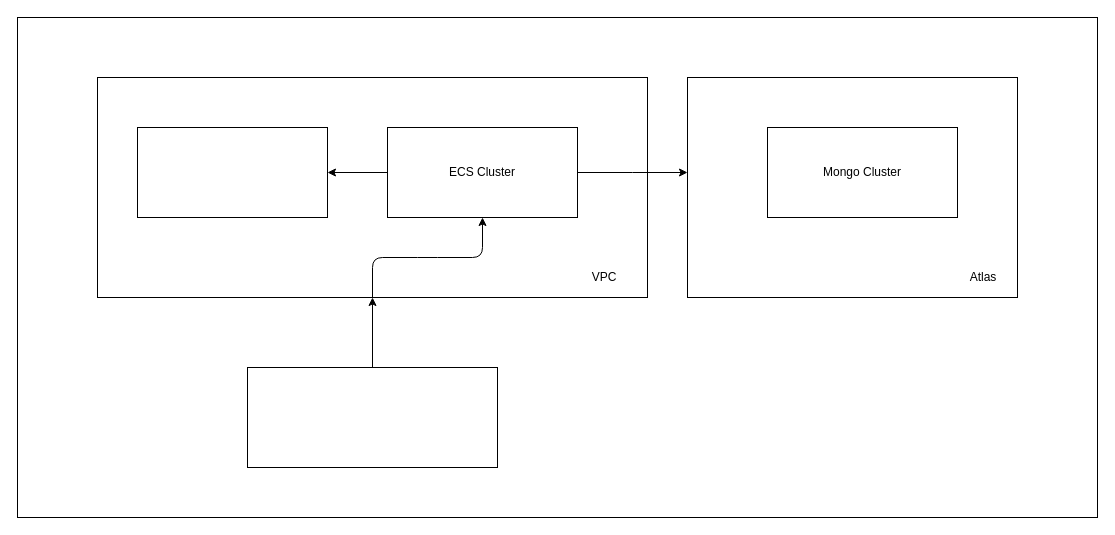
This 1115x535 diagram has some shape labels left out. The box of each missing label's shape, as (x1, y1, x2, y2) in pixels:
Application Load Balancer (ALB): (246, 366, 498, 468)
ElastiCache Redis Cluster: (136, 126, 328, 218)
